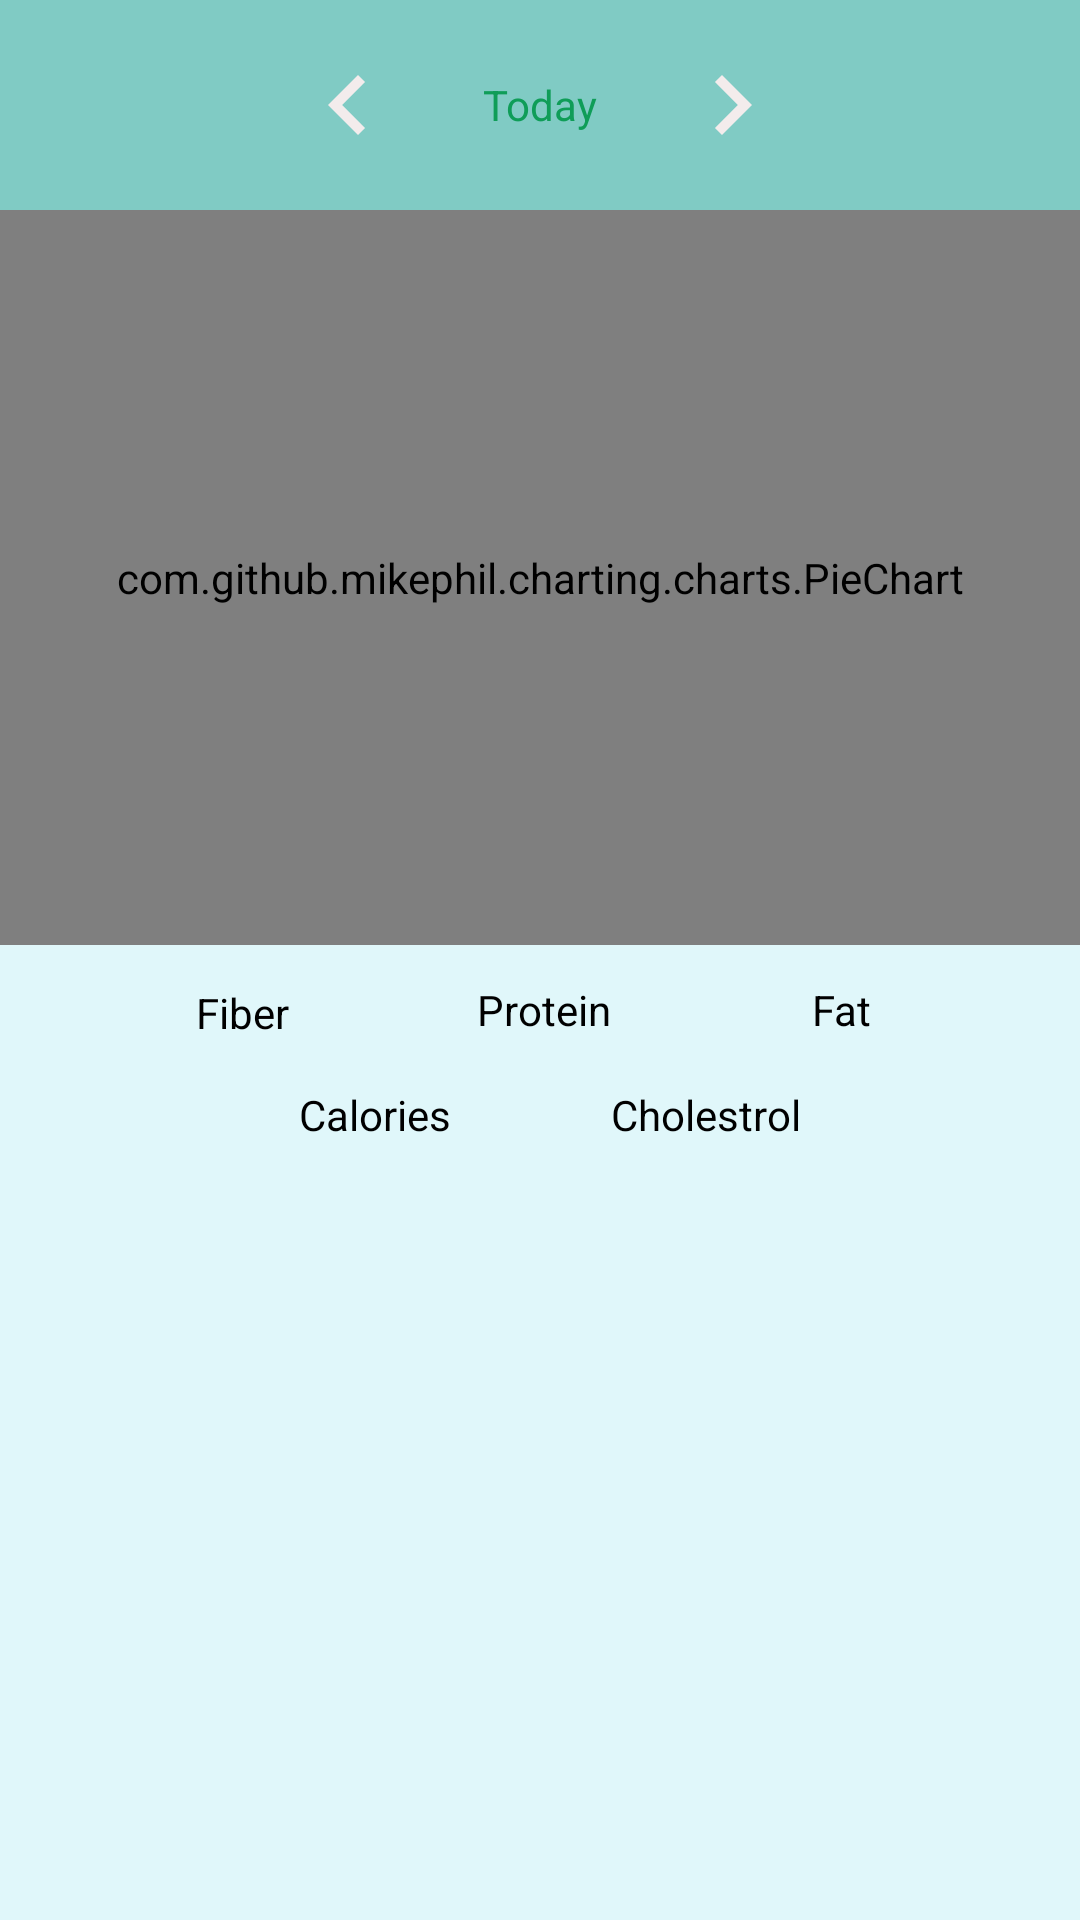

Screen size 1080 x 1920. Icon name, then its center in pixels as [x,y]:
keyboard arrow left: [346,105]
keyboard arrow right: [733,105]
